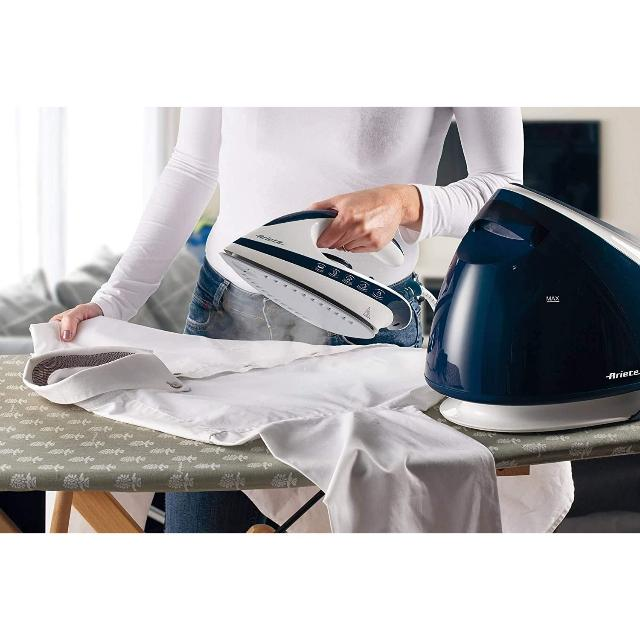Clothes-Iron: (215, 206, 427, 340)
